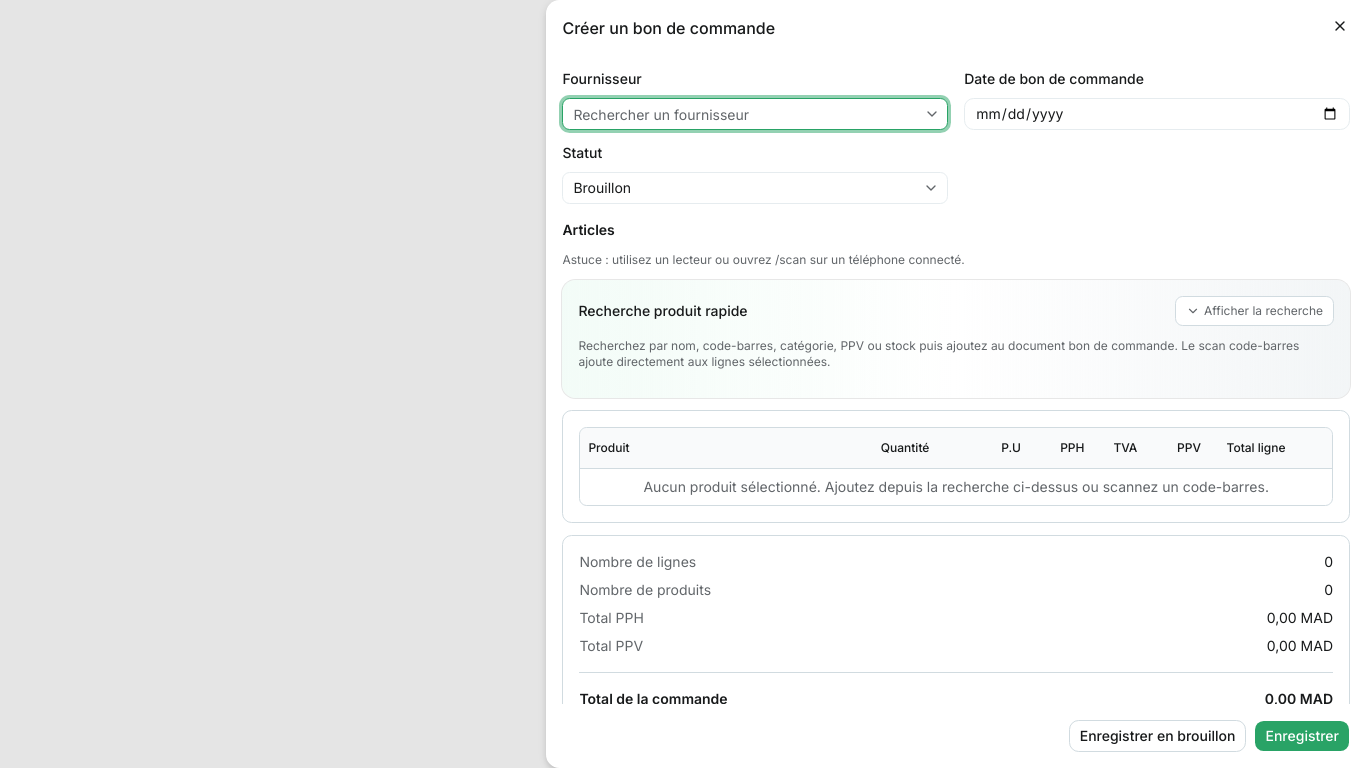
ProcurementOrderModal › merges duplicate products by increasing quantity
Click the button "Afficher la recherche".
click(1254, 311)  # box [1175,296,1334,326]
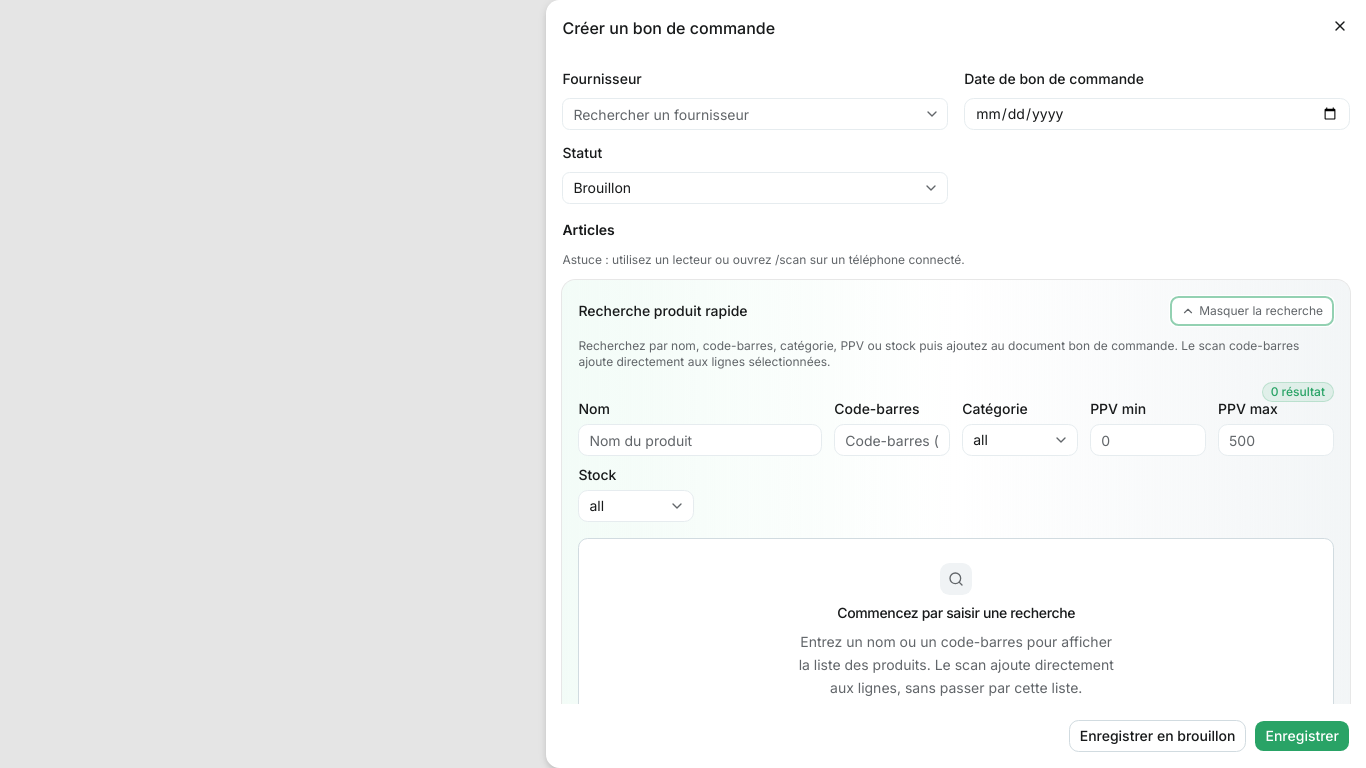
Type "Produit A" into the field labelled "Nom".
click(700, 440); type("Produit A")  # box [578,424,822,456]
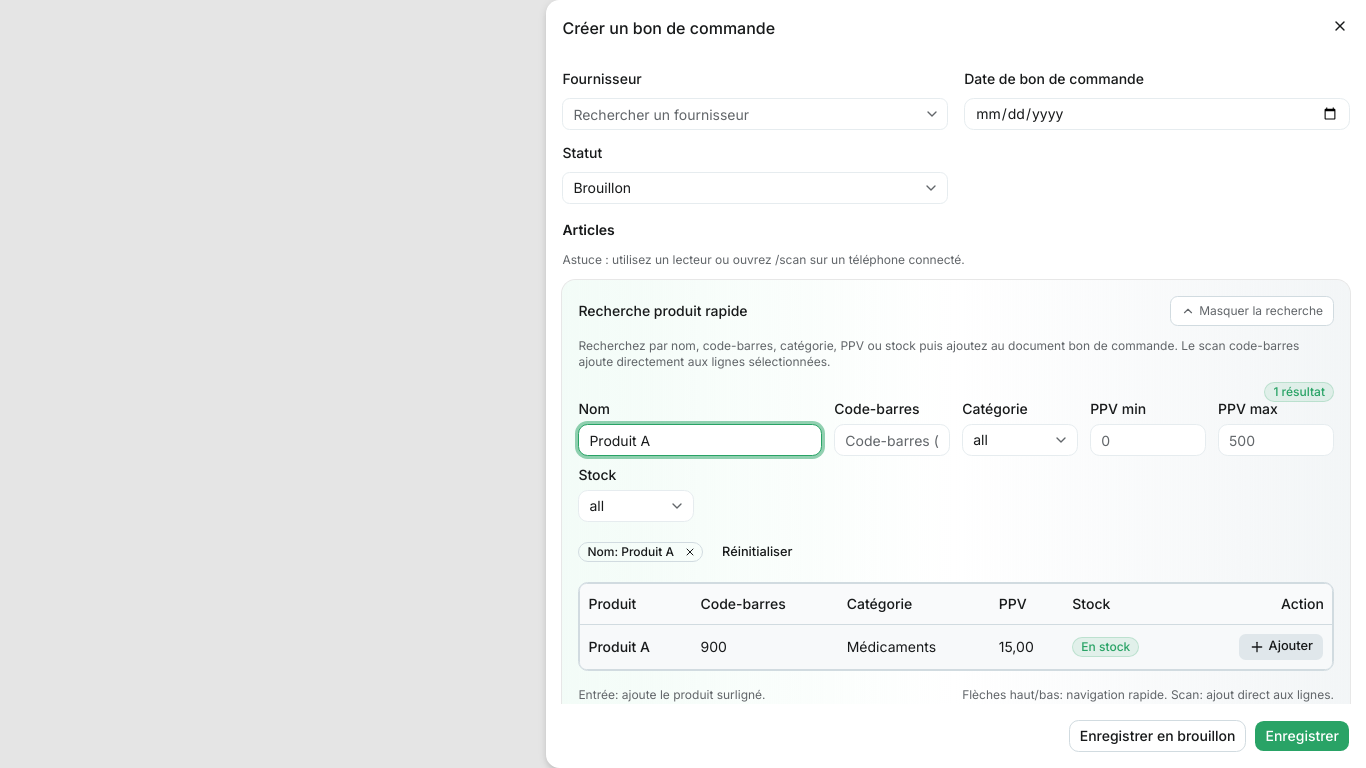
Click the button "Ajouter".
click(1281, 646)  # box [1238,632,1324,660]
(page scrolled)
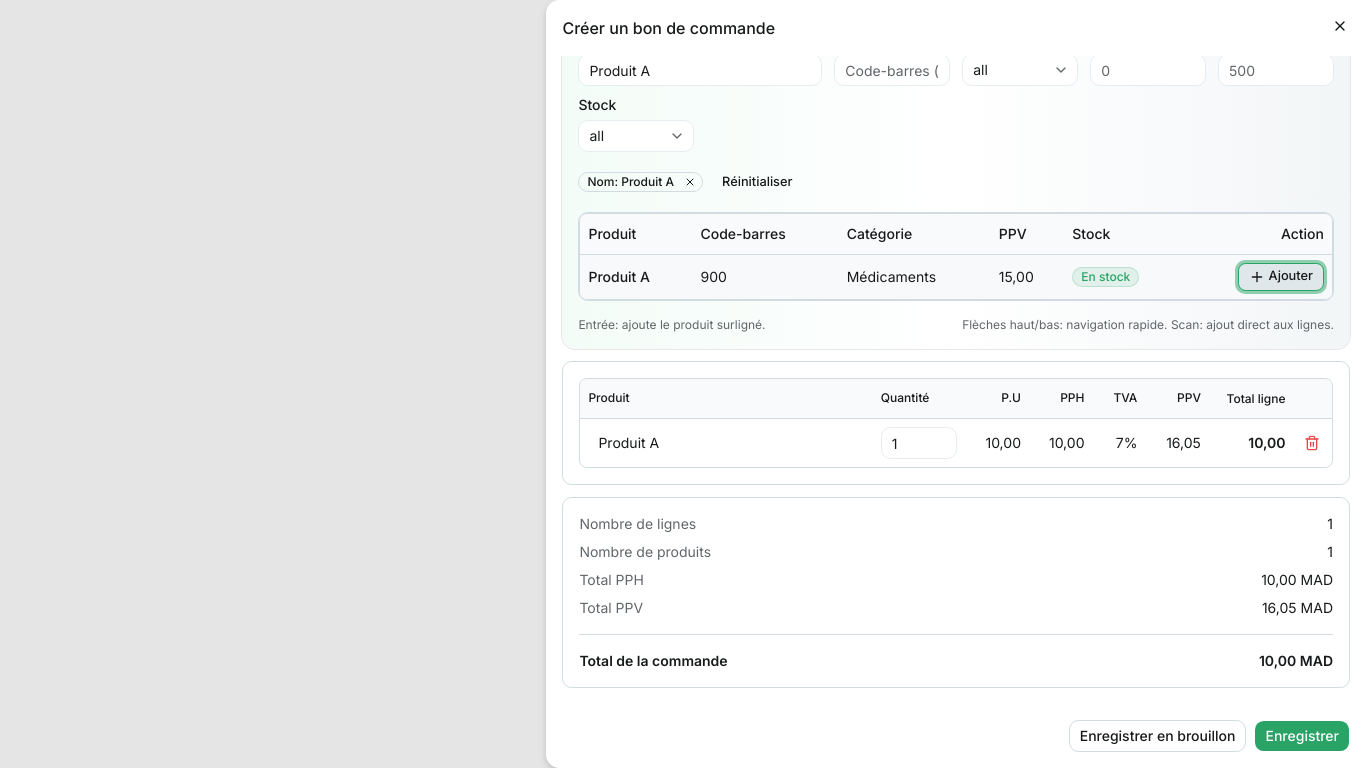
Replace the text in the number field named "Quantité" with "2" at (919, 443), box [881,427,958,459]
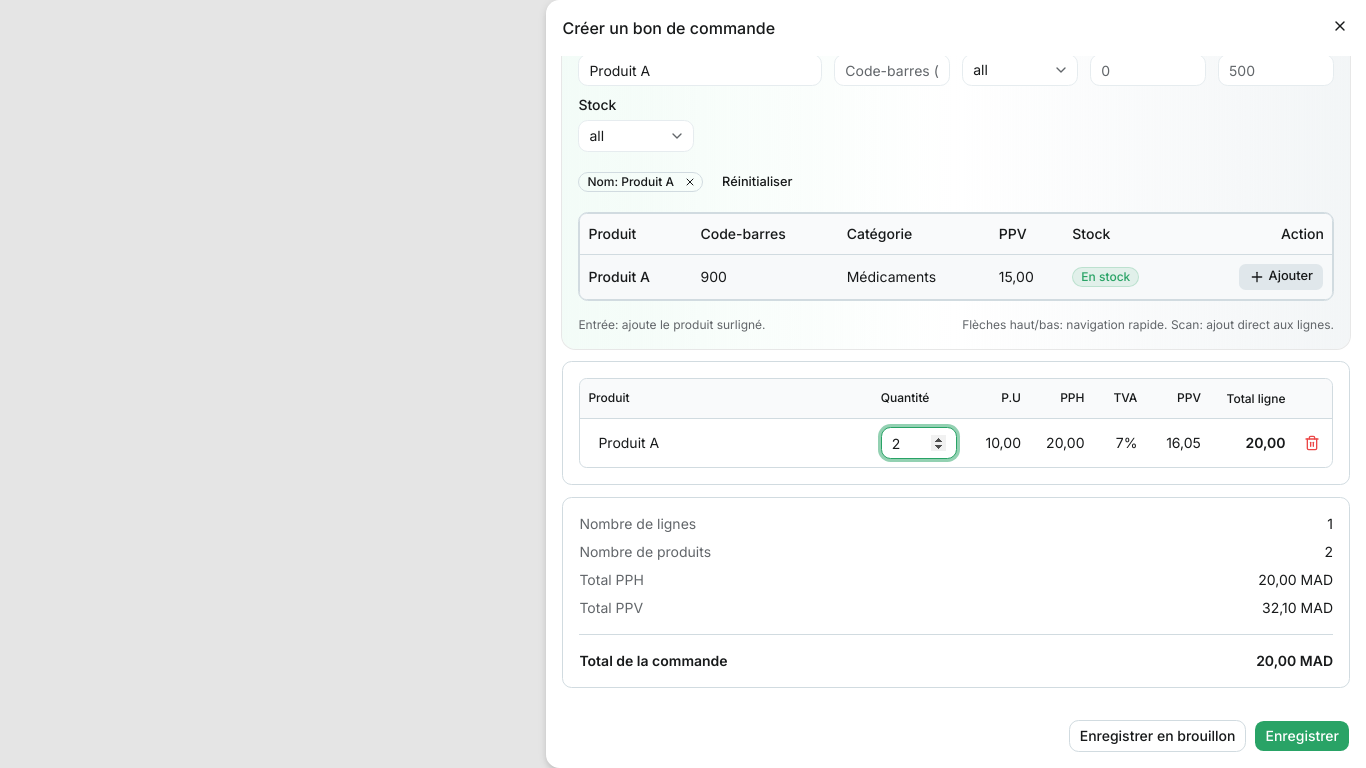
Click the button "Ajouter".
click(1281, 276)  # box [1238,262,1324,290]
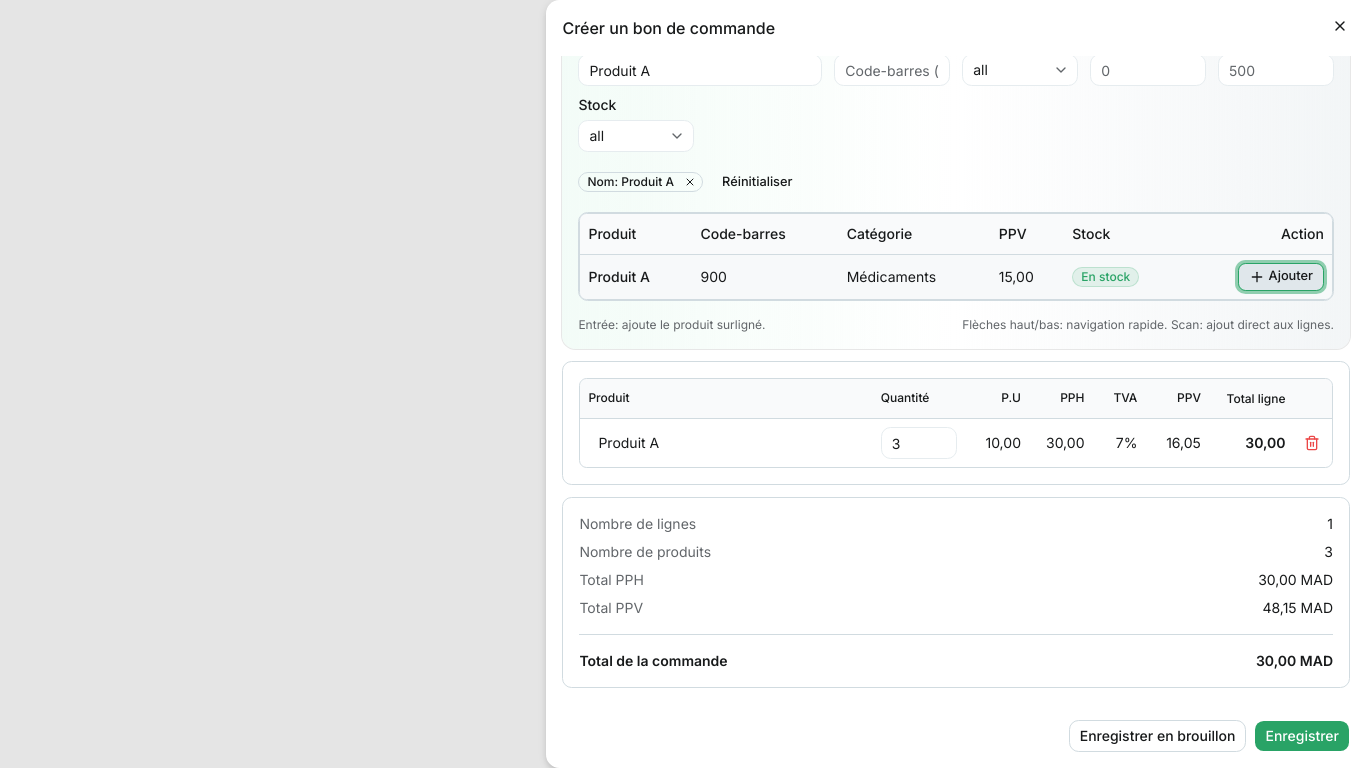
Result: the number of buttons named "Supprimer la ligne" is 1 at [1296,427,1328,459]
Result: the number field named "Quantité" holds "3" at [881,427,958,459]
